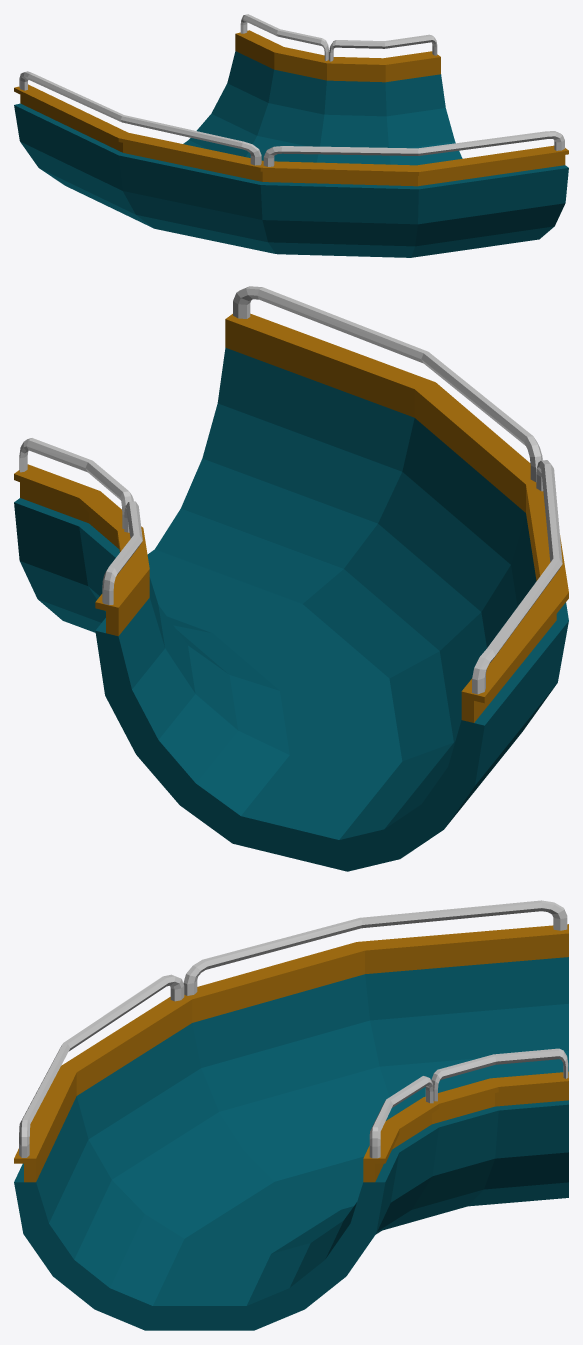
The model's file is halfpipe-curveLeft-90_s.FBX.
3 renders of one model, top to bottom at view 1: azimuth 30°, elevation 25°; view 2: azimuth 150°, elevation 25°; view 3: azimuth 270°, elevation 25°, orthographic. The views are drawn at different scales.
Parts seen in each view (by area): view 1: halfpipe-curveLeft-90_s, wall_r, wall_l; view 2: halfpipe-curveLeft-90_s, wall_r, wall_l; view 3: halfpipe-curveLeft-90_s, wall_r, wall_l.
Boxes of the visible parts, x1,y1,x2,y2 form: halfpipe-curveLeft-90_s: (14, 51, 568, 257); wall_r: (14, 71, 568, 186); wall_l: (235, 14, 440, 82); halfpipe-curveLeft-90_s: (14, 347, 568, 871); wall_r: (225, 286, 568, 722); wall_l: (14, 438, 149, 636); halfpipe-curveLeft-90_s: (14, 957, 568, 1330); wall_r: (14, 900, 568, 1182); wall_l: (363, 1048, 568, 1182).
Size of what is drawn, in the model's own units: 191 by 191 by 75.73.
